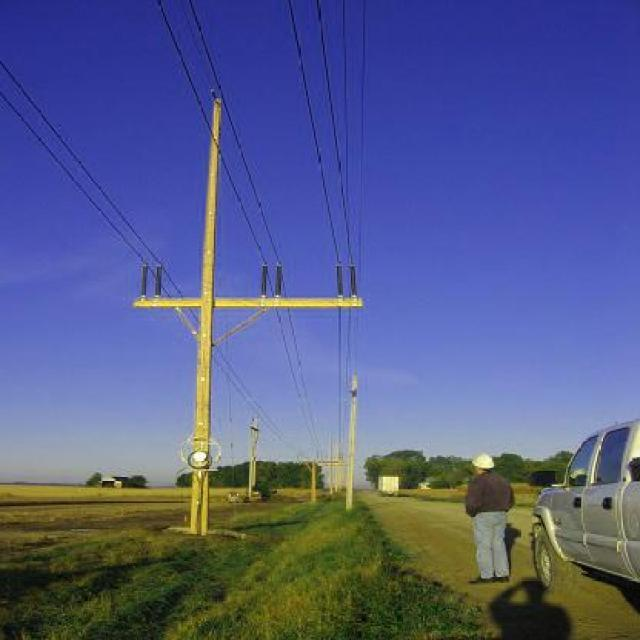light_pole: (136, 77, 362, 217)
